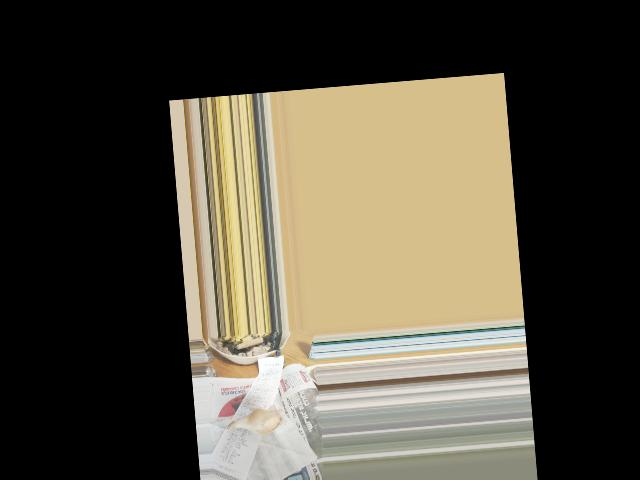onion: (242, 409, 286, 435)
